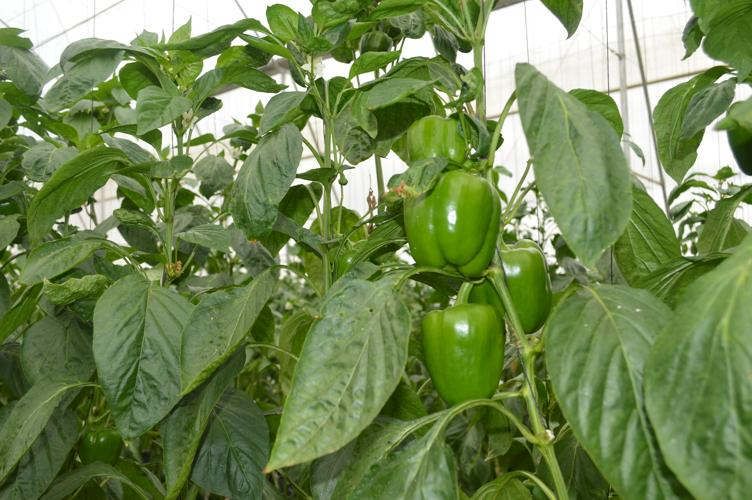BellPepper: (388, 163, 508, 289), (419, 298, 504, 412), (489, 244, 556, 335), (405, 113, 478, 167)
